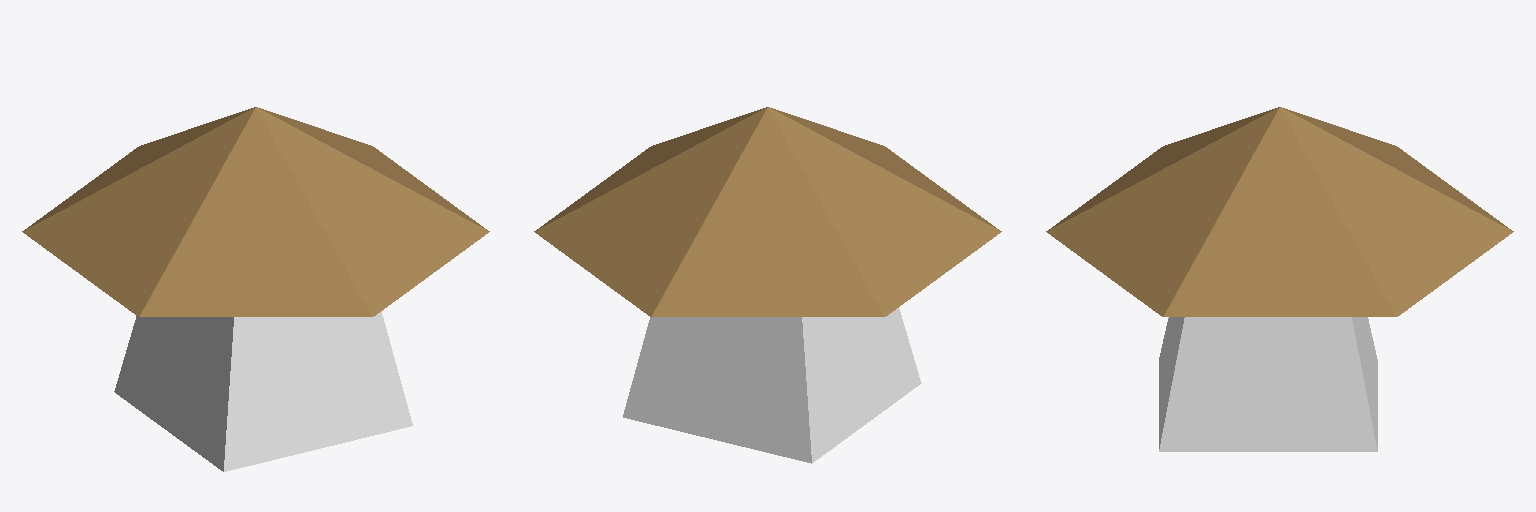
3 views of the same model, side by side, from view 1: azimuth 30°, elevation 25°; view 2: azimuth 150°, elevation 25°; view 3: azimuth 270°, elevation 25° (orthographic).
Visible parts, largest first — view 1: Mesh1 Mushroom_Brown Model; view 2: Mesh1 Mushroom_Brown Model; view 3: Mesh1 Mushroom_Brown Model.
Boxes of the visible parts, box(x1,y1,x2,y2) form: Mesh1 Mushroom_Brown Model: box(22, 107, 489, 471); Mesh1 Mushroom_Brown Model: box(534, 107, 1001, 463); Mesh1 Mushroom_Brown Model: box(1046, 107, 1513, 451).
Size of the model in its own units: 0.4349 by 0.3535 by 0.5022.
Materials: 1 (1 with a texture image).